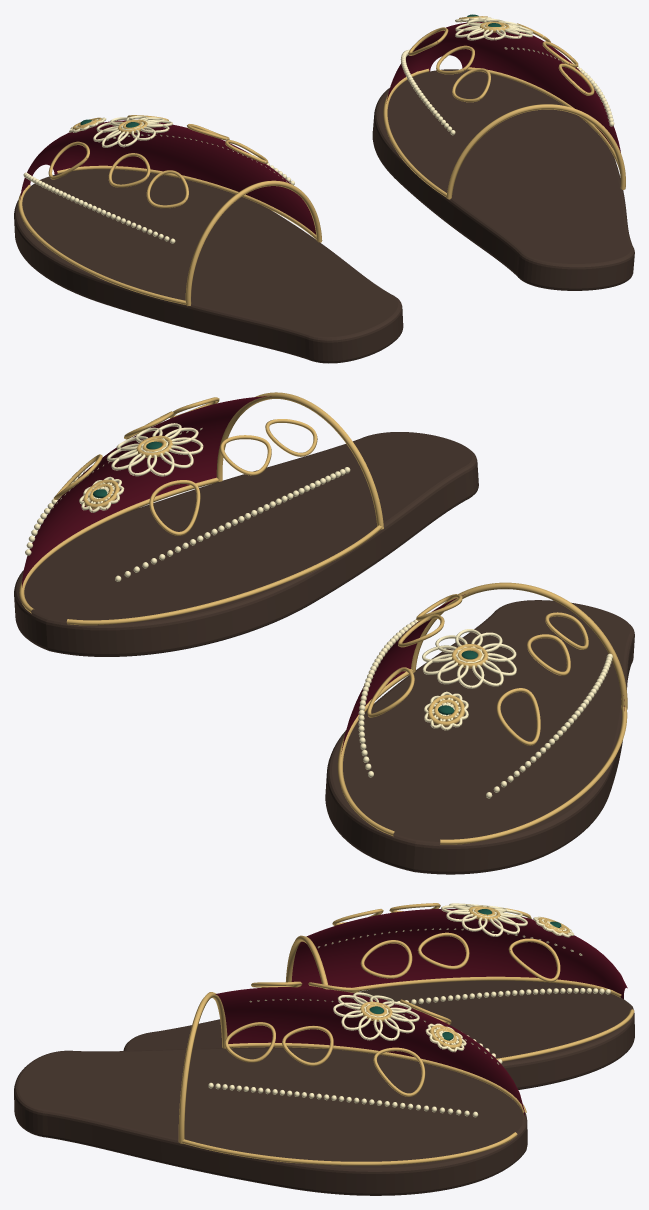
File: heritage-mules.glb
3 views of the same model, one above another, from view 1: azimuth 30°, elevation 25°; view 2: azimuth 150°, elevation 25°; view 3: azimuth 270°, elevation 25° (orthographic). The views are drawn at different scales.
Bounding box in the file's own units: 3.5 × 1.33 × 3.58.
